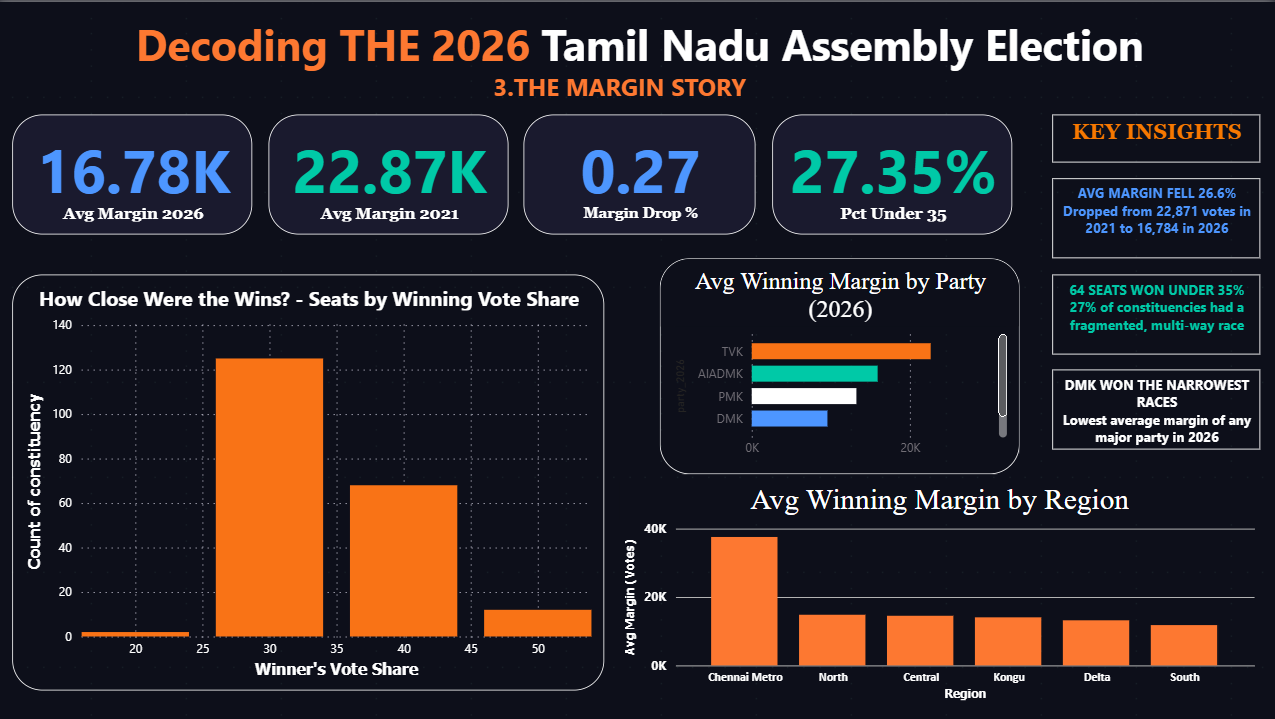

The page's visual inventory and layout, read from the dashboard file:
{"tool":"powerbi","page":{"name":"STORY 3","canvas":[1280,720],"ordinal":2},"visuals":[{"type":"card","fields":{"Values":["tn_election_constituency_summary (3).Pct Under 35"]},"box":[776,112,240,120],"z":0},{"type":"card","fields":{"Values":["tn_election_constituency_summary (3).Avg Margin 2021"]},"box":[272,112,240,120],"z":1000},{"type":"textbox","box":[104,8,1080,88],"z":2000},{"type":"clusteredColumnChart","title":"Avg Winning Margin by Region","fields":{"Category":["tn_election_constituency_summary (3).region"],"Y":["tn_election_constituency_summary (3).Avg Margin 2026"]},"box":[624,480,640,224],"z":3000},{"type":"textbox","box":[1056,112,208,48],"z":4000},{"type":"textbox","box":[1056,176,208,80],"z":5000},{"type":"textbox","box":[1056,272,208,80],"z":6000},{"type":"textbox","box":[1056,368,208,80],"z":7000},{"type":"textbox","box":[32,536,56,32],"z":9000},{"type":"textbox","box":[32,408,56,32],"z":10000},{"type":"textbox","box":[464,64,320,64],"z":11000},{"type":"card","fields":{"Values":["tn_election_constituency_summary (3).Avg Margin 2026"]},"box":[16,112,240,120],"z":12000},{"type":"card","fields":{"Values":["tn_election_constituency_summary (3).Margin Drop %"]},"box":[528,112,232,120],"z":13000},{"type":"clusteredColumnChart","title":"How Close Were the Wins? - Seats by Winning Vote Share","fields":{"Category":["tn_election_constituency_summary (3).winner_vote_share_2026 (bins)"],"Y":["CountNonNull(tn_election_constituency_summary (3).constituency)"]},"box":[16,272,592,416],"z":14000},{"type":"clusteredBarChart","title":"Avg Winning Margin by Party (2026)","fields":{"Category":["tn_election_constituency_summary (3).party_2026"],"Y":["tn_election_constituency_summary (3).Avg Margin 2026"]},"box":[664,256,360,216],"z":15000}]}

Visuals, with their boxes in screenshot pixels (x1, y1, x2, y2), scaled from the page's 1280x720 canvas onto the 1275x719 screenshot:
card - tn_election_constituency_summary (3).Pct Under 35: {"x1": 773, "y1": 112, "x2": 1012, "y2": 232}
card - tn_election_constituency_summary (3).Avg Margin 2021: {"x1": 271, "y1": 112, "x2": 510, "y2": 232}
textbox: {"x1": 104, "y1": 8, "x2": 1179, "y2": 96}
"Avg Winning Margin by Region" clusteredColumnChart: {"x1": 622, "y1": 479, "x2": 1259, "y2": 703}
textbox: {"x1": 1052, "y1": 112, "x2": 1259, "y2": 160}
textbox: {"x1": 1052, "y1": 176, "x2": 1259, "y2": 256}
textbox: {"x1": 1052, "y1": 272, "x2": 1259, "y2": 352}
textbox: {"x1": 1052, "y1": 367, "x2": 1259, "y2": 447}
textbox: {"x1": 32, "y1": 535, "x2": 88, "y2": 567}
textbox: {"x1": 32, "y1": 407, "x2": 88, "y2": 439}
textbox: {"x1": 462, "y1": 64, "x2": 781, "y2": 128}
card - tn_election_constituency_summary (3).Avg Margin 2026: {"x1": 16, "y1": 112, "x2": 255, "y2": 232}
card - tn_election_constituency_summary (3).Margin Drop %: {"x1": 526, "y1": 112, "x2": 757, "y2": 232}
"How Close Were the Wins? - Seats by Winning Vote Share" clusteredColumnChart: {"x1": 16, "y1": 272, "x2": 606, "y2": 687}
"Avg Winning Margin by Party (2026)" clusteredBarChart: {"x1": 661, "y1": 256, "x2": 1020, "y2": 471}
